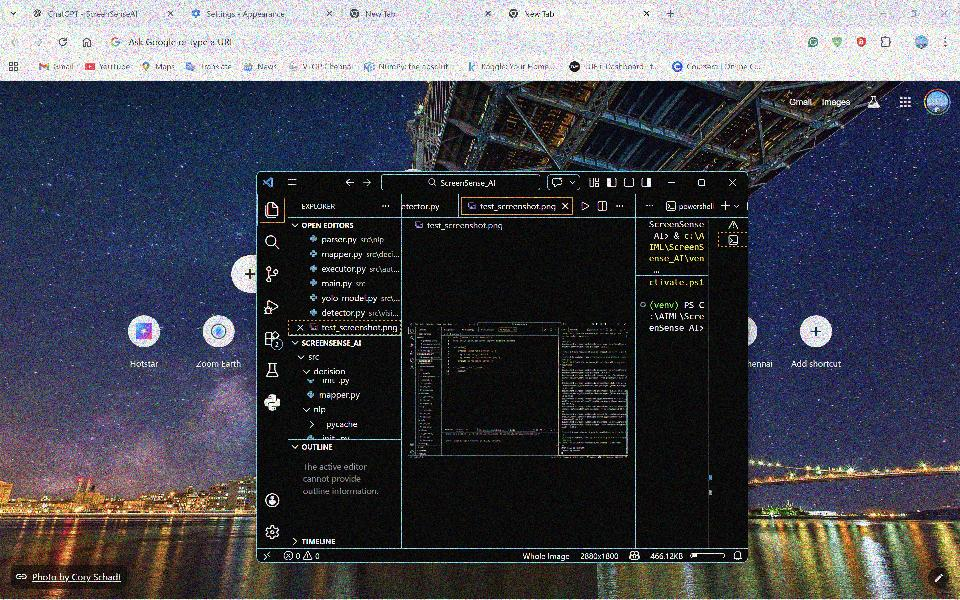close_button: (935, 2, 955, 24), (721, 174, 743, 191)
maximize_button: (903, 2, 925, 24), (691, 174, 713, 190)
minimize_button: (873, 3, 894, 24), (662, 174, 681, 191)
